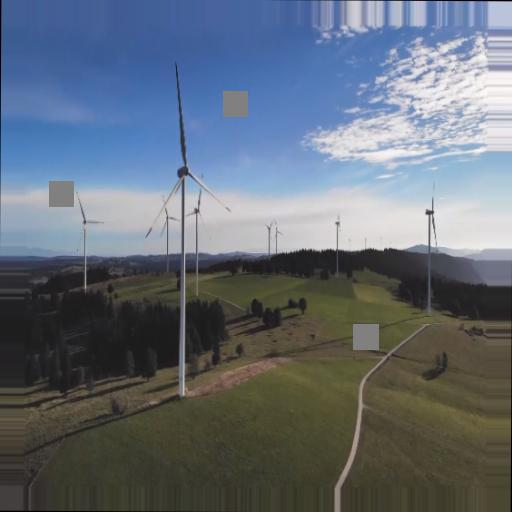wind turbine: (146, 62, 236, 388), (71, 189, 106, 292)
